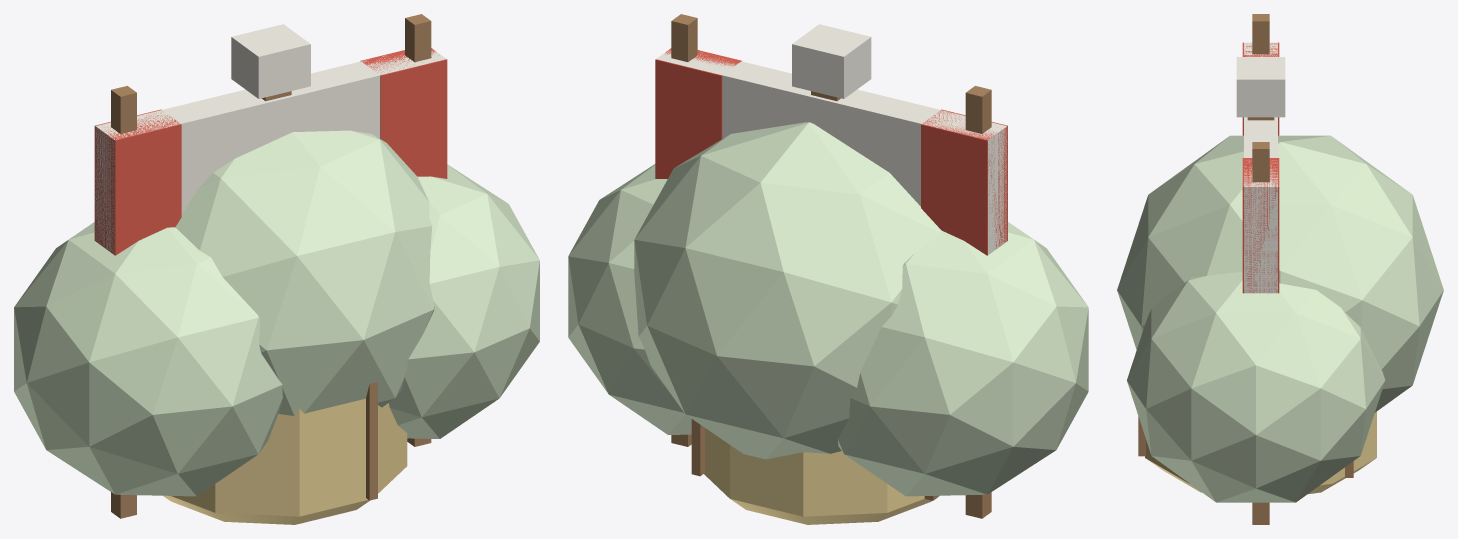
File: roadside.glb
The picture shows the model from 3 angles, left to right: view 1: azimuth 30°, elevation 25°; view 2: azimuth 150°, elevation 25°; view 3: azimuth 270°, elevation 25°; orthographic projection. The views are drawn at different scales.
Parts seen in each view (by area): view 1: BushCluster, RallyBoard, HayBale, WaysideCross; view 2: BushCluster, RallyBoard, HayBale, WaysideCross; view 3: BushCluster, RallyBoard, WaysideCross, HayBale.
Part boxes in pixels (<box>): BushCluster: <box>14,130,539,496</box>; RallyBoard: <box>94,14,447,518</box>; HayBale: <box>163,382,407,524</box>; WaysideCross: <box>231,24,310,101</box>; BushCluster: <box>568,122,1088,496</box>; RallyBoard: <box>655,14,1007,518</box>; HayBale: <box>691,419,939,524</box>; WaysideCross: <box>792,24,871,101</box>; BushCluster: <box>1117,135,1443,502</box>; RallyBoard: <box>1242,14,1279,524</box>; WaysideCross: <box>1236,57,1285,120</box>; HayBale: <box>1138,411,1376,494</box>.
Size of the model in its own units: 2.1 by 1.76 by 1.34.
